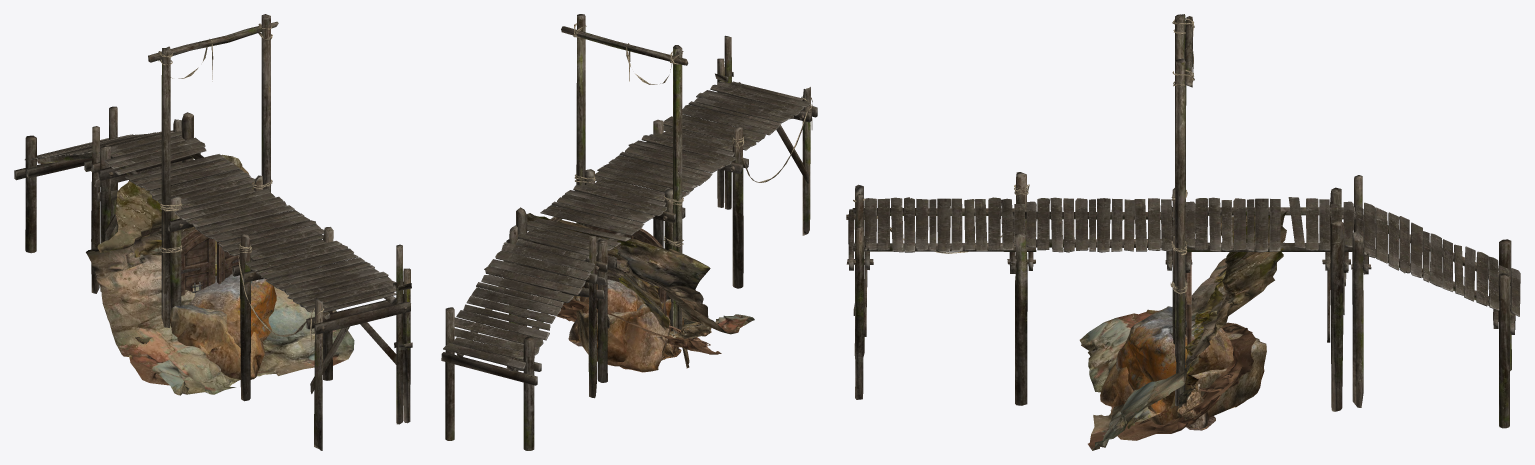
File: dungeon.glb
3 renders of one model, left to right at view 1: azimuth 30°, elevation 25°; view 2: azimuth 150°, elevation 25°; view 3: azimuth 270°, elevation 25°, orthographic. The views are drawn at different scales.
Visible parts, largest first — view 1: modular_wooden_pier_a, rock_face_01, namaqualand_boulder_03, namaqualand_boulder_04, large_castle_door, root_cluster_01, rock_face_02; view 2: modular_wooden_pier_a, rock_face_01, namaqualand_boulder_04, namaqualand_boulder_03, root_cluster_01, rock_face_02, dead_tree_trunk_02, large_castle_door; view 3: modular_wooden_pier_a, rock_face_01, namaqualand_boulder_04, namaqualand_boulder_03, root_cluster_01, rock_face_02.
Boxes of the visible parts, <box> form: modular_wooden_pier_a: <box>14,14,412,450</box>; rock_face_01: <box>86,154,354,395</box>; namaqualand_boulder_03: <box>170,304,264,379</box>; namaqualand_boulder_04: <box>188,274,276,347</box>; large_castle_door: <box>181,229,239,295</box>; root_cluster_01: <box>129,357,272,385</box>; rock_face_02: <box>134,239,216,275</box>; modular_wooden_pier_a: <box>441,14,817,450</box>; rock_face_01: <box>527,213,754,334</box>; namaqualand_boulder_04: <box>579,279,670,372</box>; namaqualand_boulder_03: <box>575,296,683,362</box>; root_cluster_01: <box>540,296,721,354</box>; rock_face_02: <box>567,266,669,330</box>; dead_tree_trunk_02: <box>572,298,711,368</box>; large_castle_door: <box>590,226,666,359</box>; modular_wooden_pier_a: <box>846,14,1520,428</box>; rock_face_01: <box>1079,211,1286,450</box>; namaqualand_boulder_04: <box>1116,317,1245,424</box>; namaqualand_boulder_03: <box>1100,306,1266,419</box>; root_cluster_01: <box>1110,322,1256,440</box>; rock_face_02: <box>1127,268,1226,428</box>.
Bounding box in the file's own units: 4.94 × 7.51 × 12.38.
Materials: 18 (18 with a texture image).
